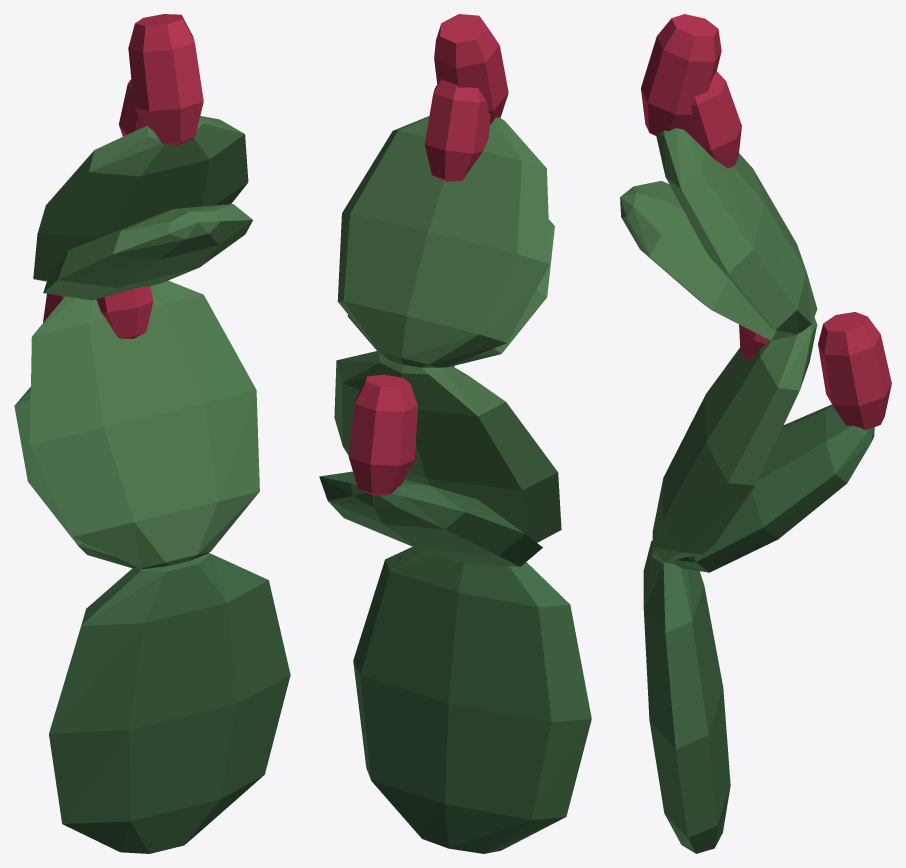
The model's file is cactusfruit.gltf.
The picture shows the model from 3 angles, left to right: view 1: azimuth 30°, elevation 25°; view 2: azimuth 150°, elevation 25°; view 3: azimuth 270°, elevation 25°; orthographic projection.
Visible parts, largest first — view 1: cactusfruit; view 2: cactusfruit; view 3: cactusfruit.
Boxes of the visible parts, <box> form: cactusfruit: <box>14,14,290,853</box>; cactusfruit: <box>319,14,591,853</box>; cactusfruit: <box>620,14,891,853</box>.
Bounding box in the file's own units: 0.4818 × 1.58 × 0.4772.
